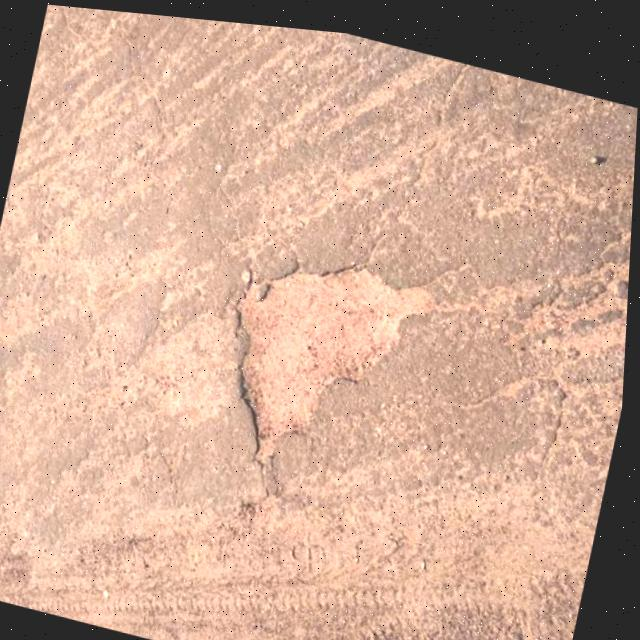Pothole: (203, 222, 436, 495)
